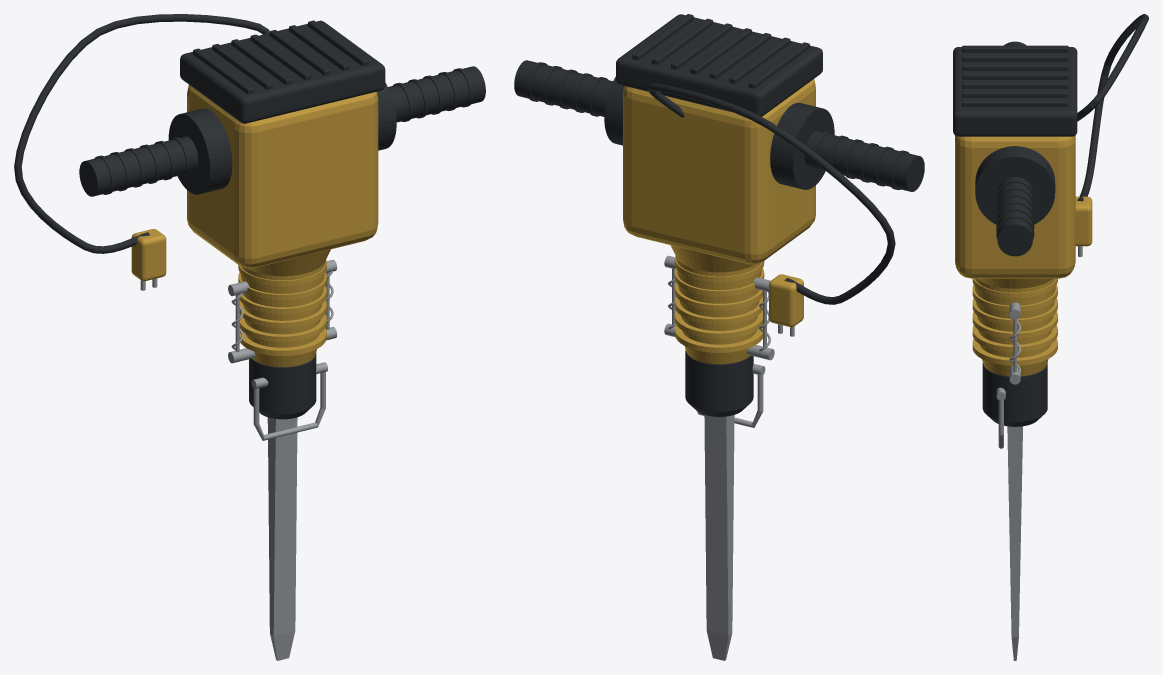
The model's file is full.fbx.
The picture shows the model from 3 angles, left to right: view 1: azimuth 30°, elevation 25°; view 2: azimuth 150°, elevation 25°; view 3: azimuth 270°, elevation 25°; orthographic projection. The views are drawn at different scales.
Visible parts, largest first — view 1: Angular upper motor housing, Broad ribbed upper cap, Long static chisel, Tapered lower barrel, Generic complete cable loop, Opposed rubber grip -1, Side oval grip mount -1, Dark chuck, Opposed rubber grip 1, Generic attached plug, Side oval grip mount 1, U shaped chisel retainer (+4 smaller); view 2: Angular upper motor housing, Broad ribbed upper cap, Long static chisel, Tapered lower barrel, Generic complete cable loop, Dark chuck, Opposed rubber grip -1, Side oval grip mount -1, Opposed rubber grip 1, Generic attached plug, Side oval grip mount 1, Barrel raised collar 0 (+12 smaller); view 3: Angular upper motor housing, Broad ribbed upper cap, Tapered lower barrel, Side oval grip mount 1, Dark chuck, Long static chisel, Generic complete cable loop, Opposed rubber grip 1, Generic attached plug, Cap raised rib 0, Cap raised rib 1, Cap raised rib 2 (+10 smaller).
Boxes of the visible parts, box(x1,y1,x2,y2) form: Angular upper motor housing: box(187, 85, 378, 268); Broad ribbed upper cap: box(180, 20, 385, 123); Long static chisel: box(267, 417, 297, 660); Tapered lower barrel: box(240, 249, 330, 367); Generic complete cable loop: box(14, 14, 269, 253); Opposed rubber grip -1: box(79, 136, 198, 196); Side oval grip mount -1: box(168, 108, 232, 194); Dark chuck: box(249, 353, 316, 419); Opposed rubber grip 1: box(388, 66, 485, 122); Generic attached plug: box(131, 229, 166, 281); Side oval grip mount 1: box(377, 83, 396, 150); U shaped chisel retainer: box(253, 372, 325, 440); Angular upper motor housing: box(623, 79, 815, 264); Broad ribbed upper cap: box(616, 14, 822, 116); Long static chisel: box(704, 415, 734, 660); Tapered lower barrel: box(670, 245, 761, 364); Generic complete cable loop: box(647, 83, 895, 304); Dark chuck: box(685, 350, 753, 416); Opposed rubber grip -1: box(804, 131, 924, 191); Side oval grip mount -1: box(770, 103, 834, 189); Opposed rubber grip 1: box(514, 60, 612, 116); Generic attached plug: box(769, 274, 803, 327); Side oval grip mount 1: box(604, 76, 624, 145); Barrel raised collar 0: box(674, 325, 762, 352); Angular upper motor housing: box(955, 135, 1075, 278); Broad ribbed upper cap: box(953, 47, 1077, 136); Tapered lower barrel: box(974, 278, 1055, 376); Side oval grip mount 1: box(975, 146, 1055, 224); Dark chuck: box(982, 363, 1047, 426); Long static chisel: box(1007, 426, 1022, 660); Generic complete cable loop: box(1077, 14, 1148, 201); Opposed rubber grip 1: box(997, 177, 1032, 256); Generic attached plug: box(1075, 196, 1092, 246); Cap raised rib 0: box(962, 45, 1068, 52); Cap raised rib 1: box(962, 54, 1068, 61); Cap raised rib 2: box(962, 63, 1068, 70).
Bounding box in the file's own units: 49.73 × 70.5 × 21.1.
